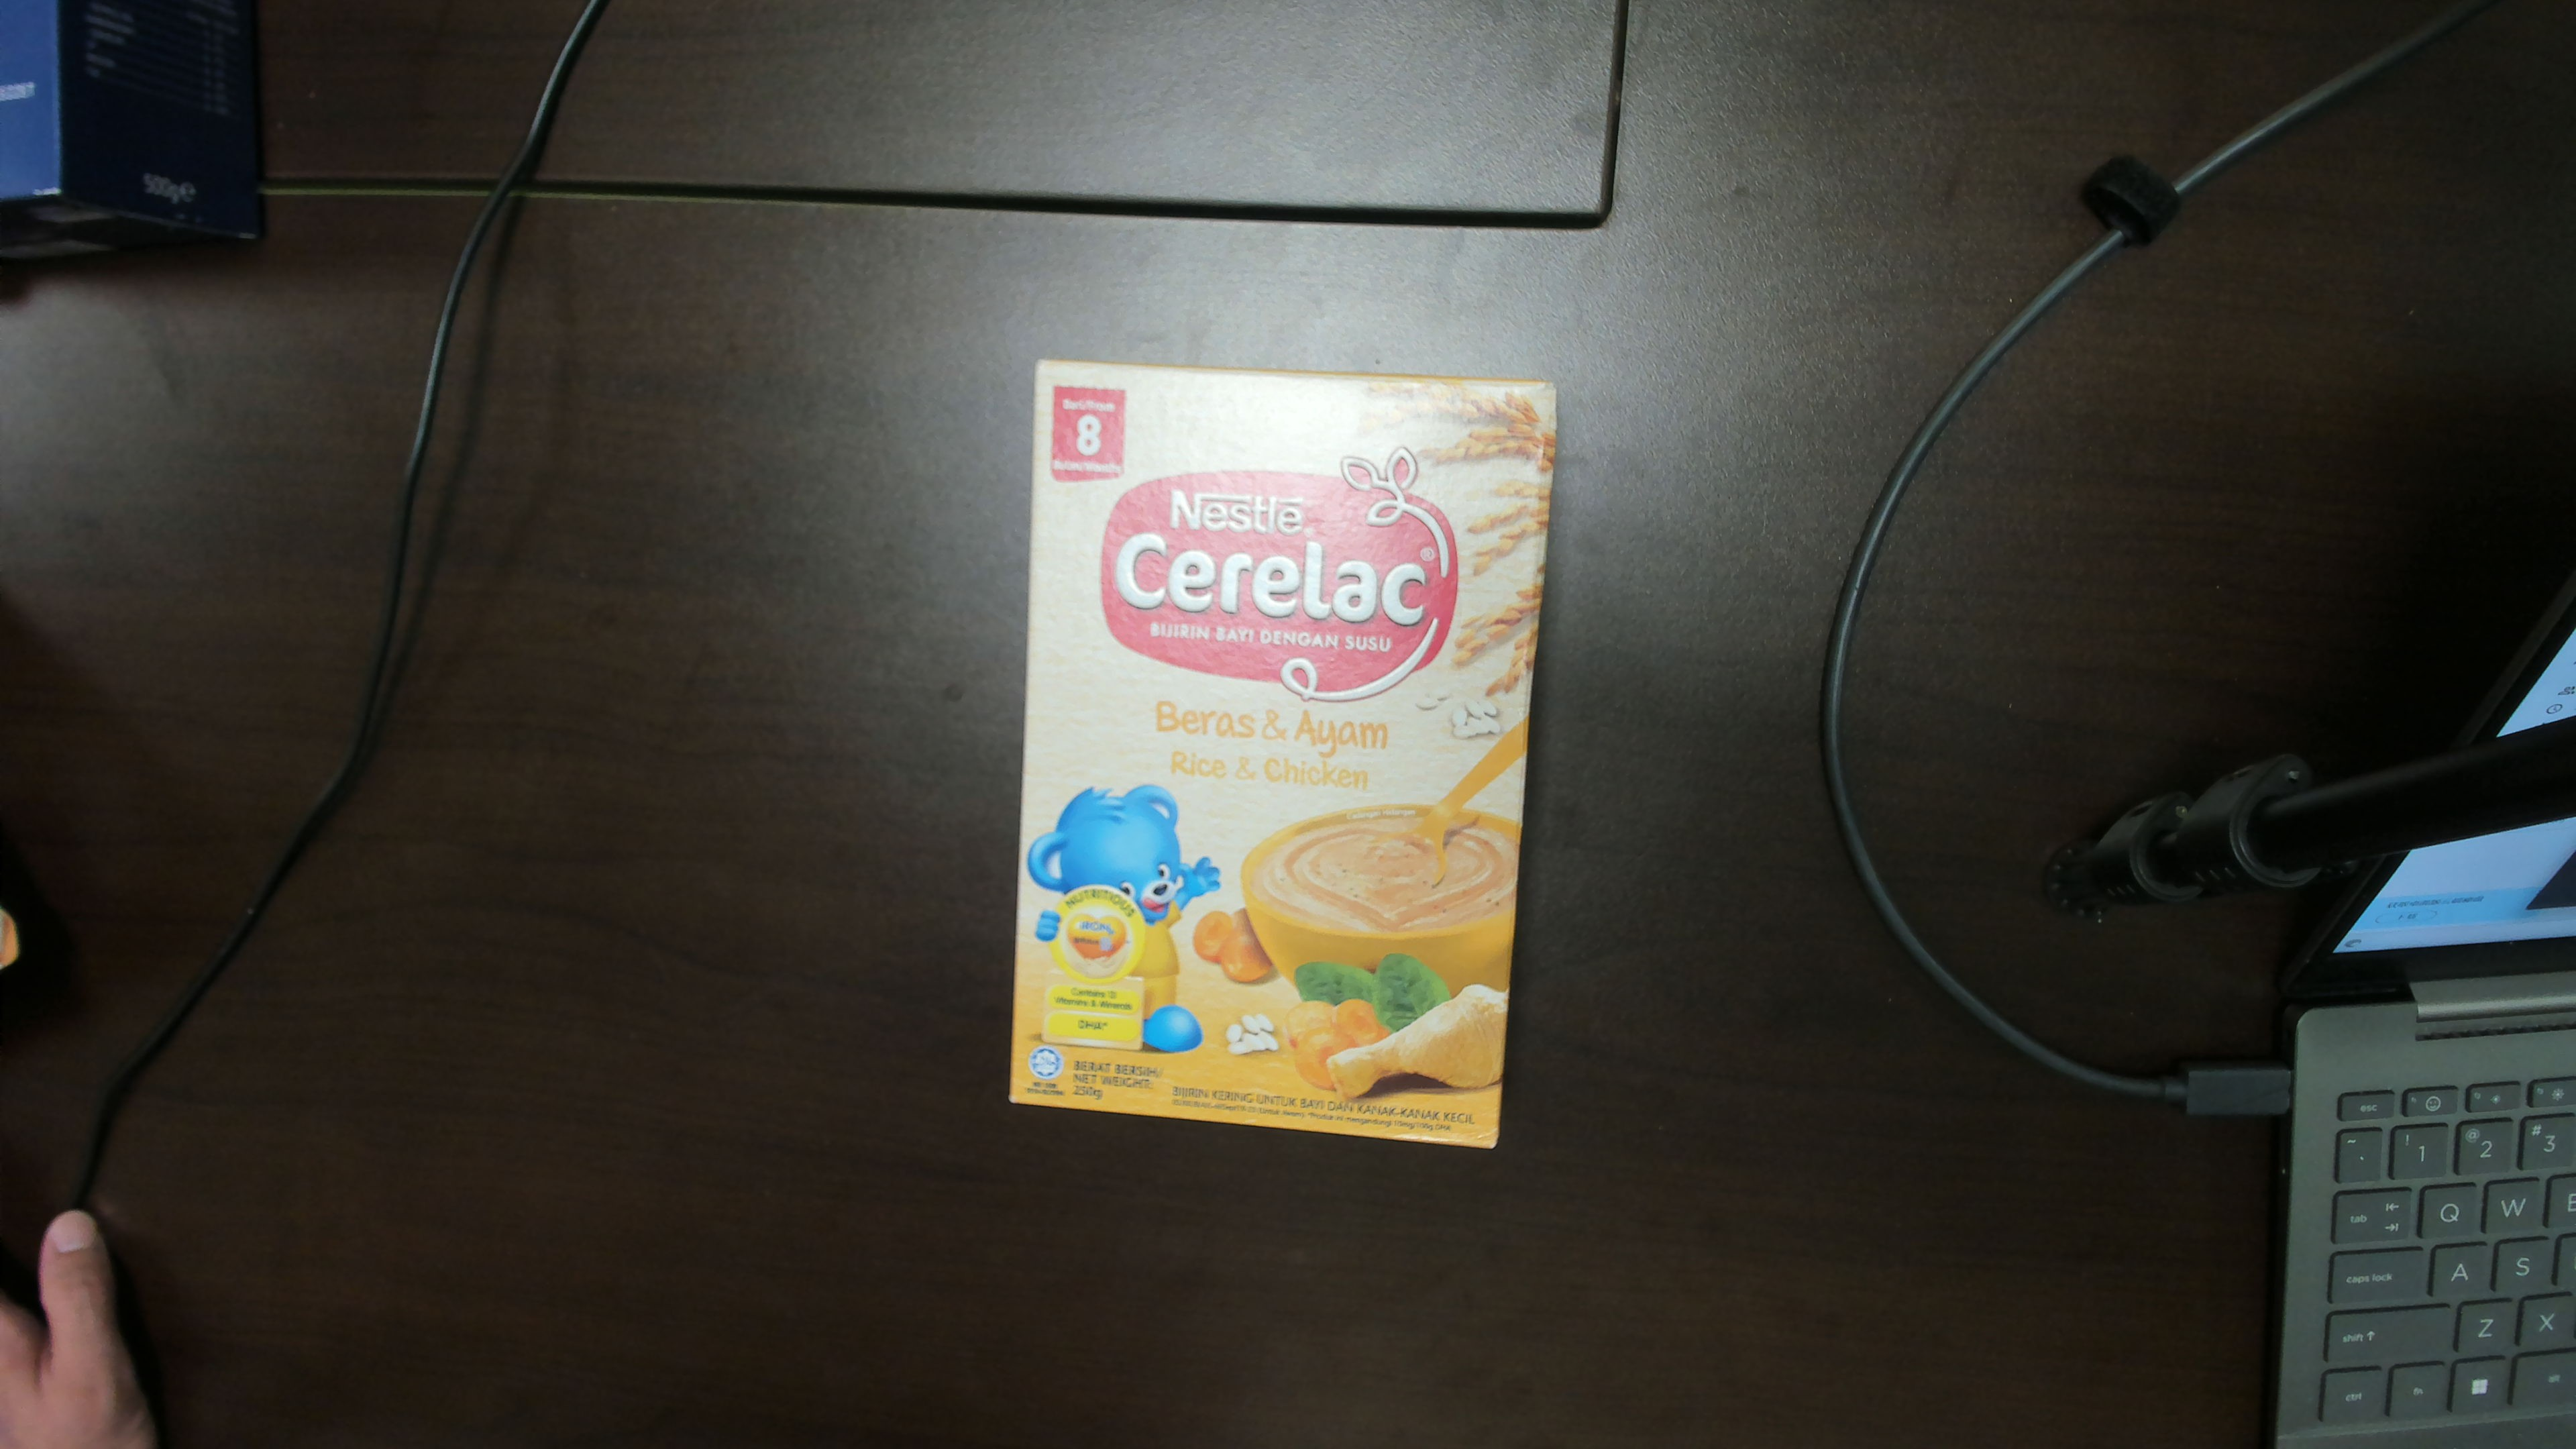Babyfood_200-299g_Halal_NonHealthy: (1035, 423, 1481, 1104)
